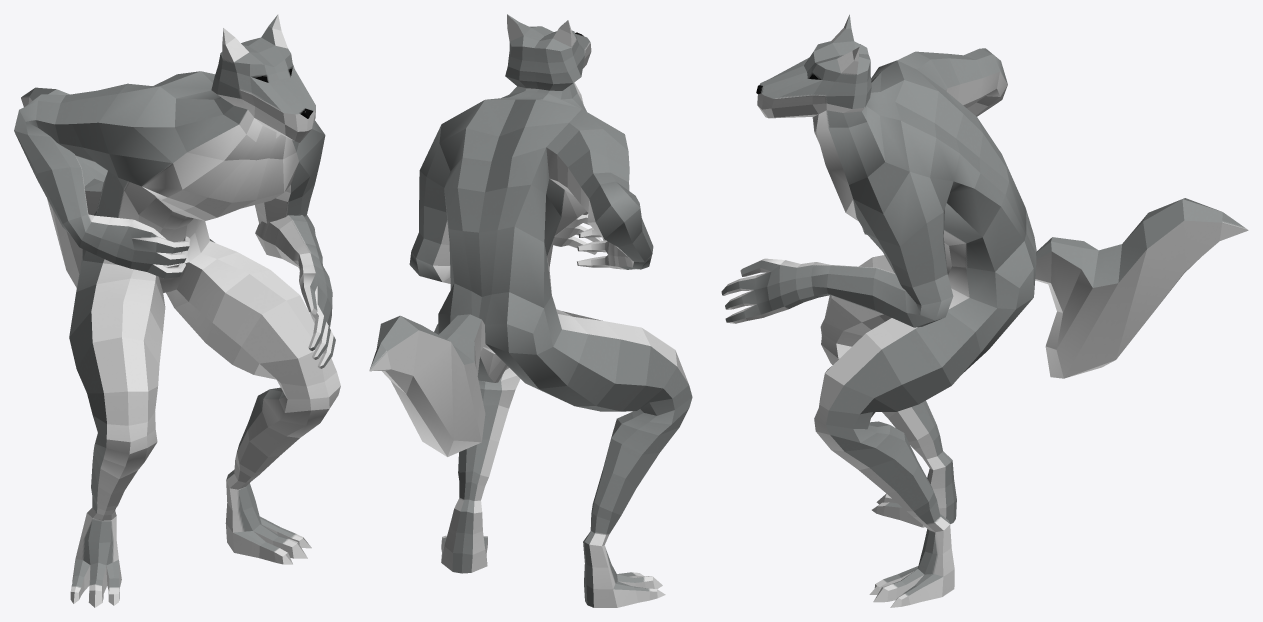
File: WolfIdle_(56).obj
3 views of the same model, side by side, from view 1: azimuth 30°, elevation 25°; view 2: azimuth 150°, elevation 25°; view 3: azimuth 270°, elevation 25° (orthographic). The views are drawn at different scales.
Visible parts, largest first — view 1: Box001; view 2: Box001; view 3: Box001.
Part boxes in pixels (box(x1,y1,x2,y2)): Box001: box(14, 14, 340, 607); Box001: box(369, 14, 692, 607); Box001: box(721, 14, 1248, 607).
Size of the model in its own units: 65.33 by 132 by 116.
